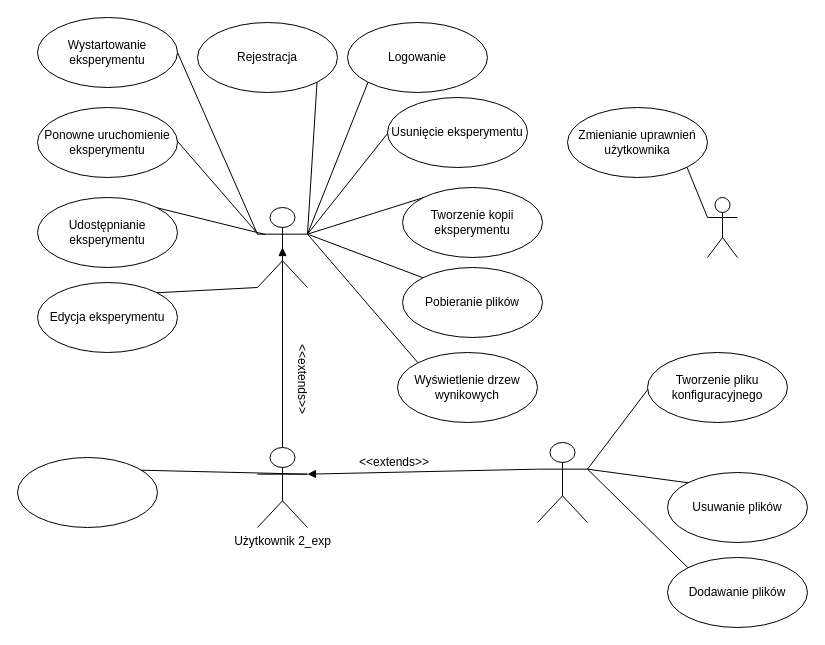
This 825x645 diagram has some shape labels left out. Each missing label, with the centre of its shape:
Admin: the point at 722,227
Tworzenie nowego modelu: the point at 87,492
Użytkownik 1_default: the point at 282,247
Użytkownik 3_exp_data: the point at 562,482
